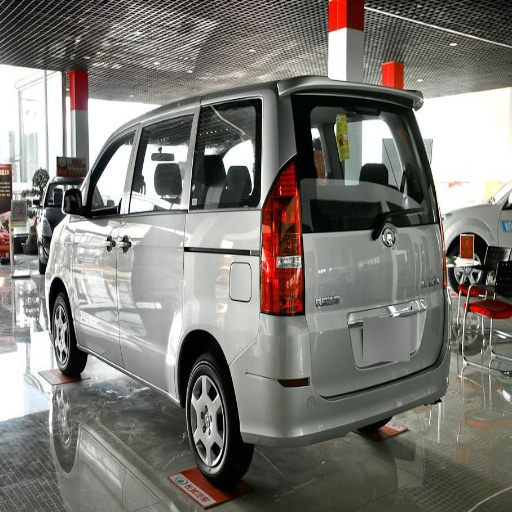back_bumper: (229, 314, 452, 449)
back_glass: (312, 99, 409, 186)
back_left_door: (120, 114, 193, 284)
back_left_light: (261, 168, 304, 314)
tailgate: (354, 330, 423, 370)
trunk: (290, 198, 452, 388), (150, 224, 245, 363)
